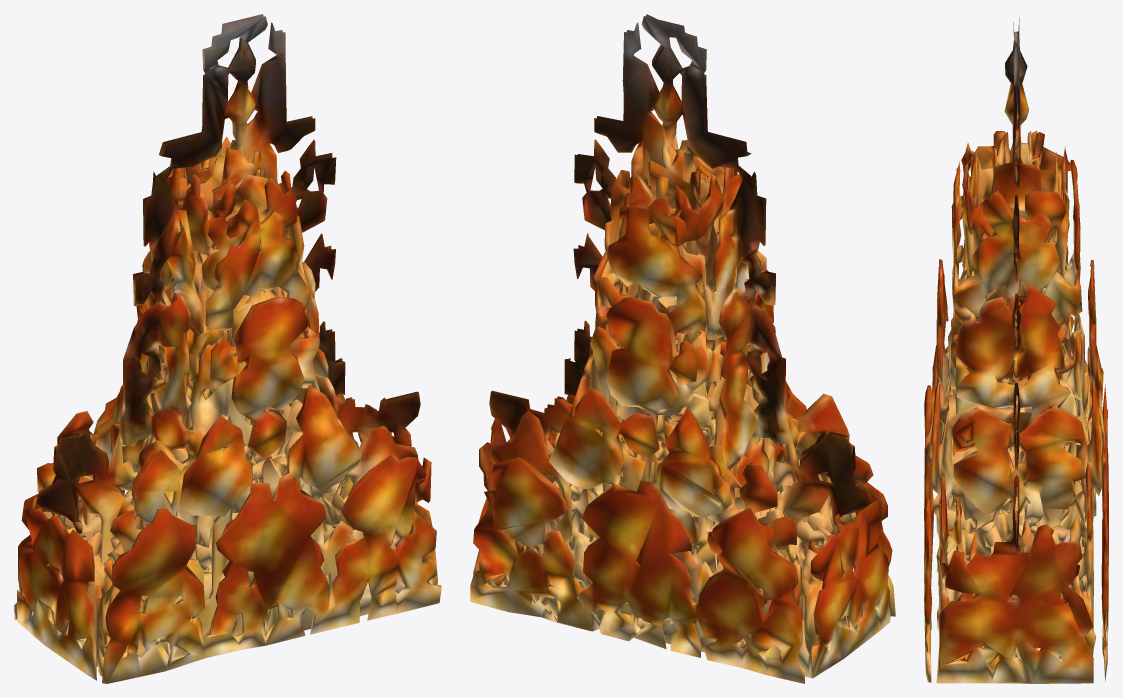
The model's file is hunyuan-fire.glb.
The picture shows the model from 3 angles, left to right: view 1: azimuth 30°, elevation 25°; view 2: azimuth 150°, elevation 25°; view 3: azimuth 270°, elevation 25°; orthographic projection.
Parts seen in each view (by area): view 1: material; view 2: material; view 3: material.
Part boxes in pixels (x1,y1,x2,y2): material: (14,14,441,683); material: (470,14,895,683); material: (924,17,1108,683).
Bounding box in the file's own units: 0.6402 × 0.9387 × 0.2682.
1 material, 1 textured.
